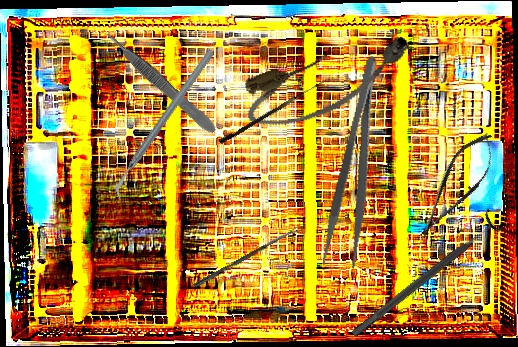Cannula: (236, 24, 423, 139)
Chopper: (75, 48, 253, 202)
Dressing Forceps: (317, 53, 401, 273)
Fixation Ring: (344, 207, 506, 346)
Hook Surgical: (218, 74, 327, 147)
Micro Scissor: (405, 124, 508, 249)
Surgical Spoon: (193, 226, 300, 289)
Tissue Forceps: (103, 27, 219, 138)
